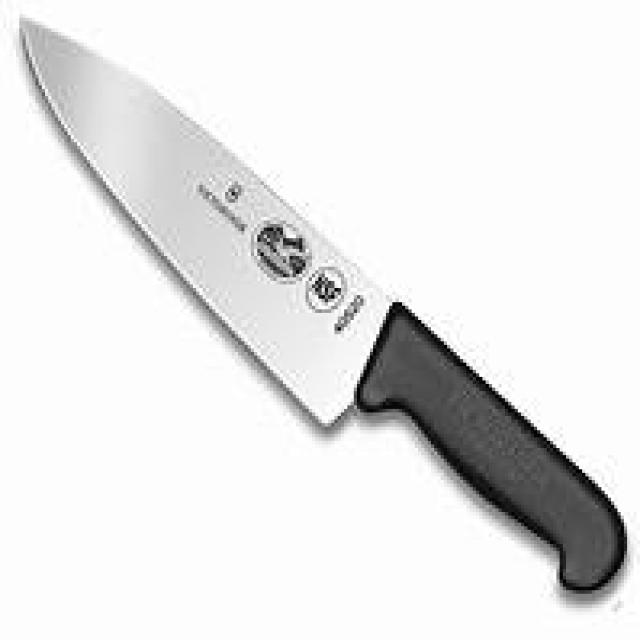Knife: (23, 18, 621, 587)
